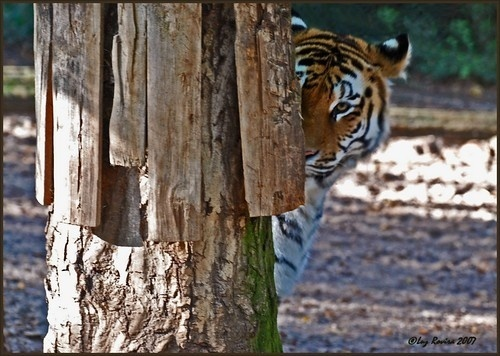tigre: (262, 15, 414, 295)
